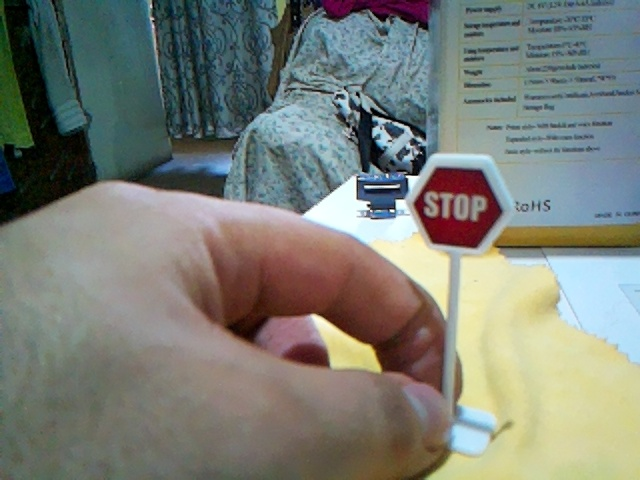stop_sign: (406, 154, 512, 253)
